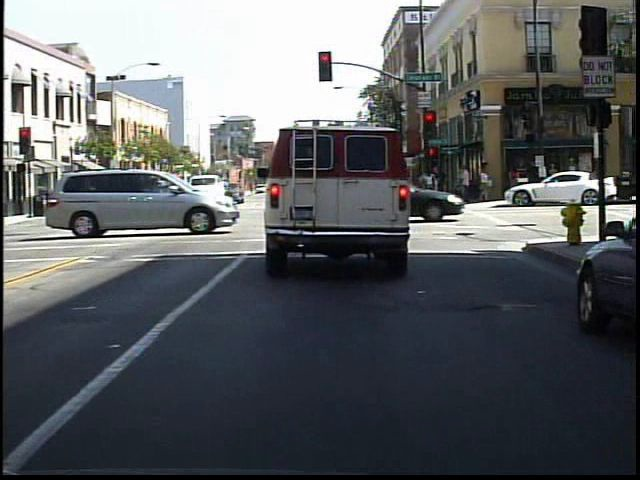person: (523, 156, 543, 207), (504, 160, 523, 188)
